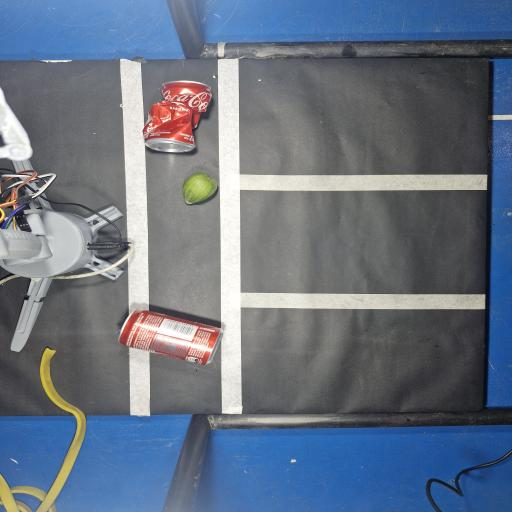higo: (183, 173, 217, 205)
lata: (119, 310, 223, 365)
lata_defectuoso: (143, 82, 211, 152)
